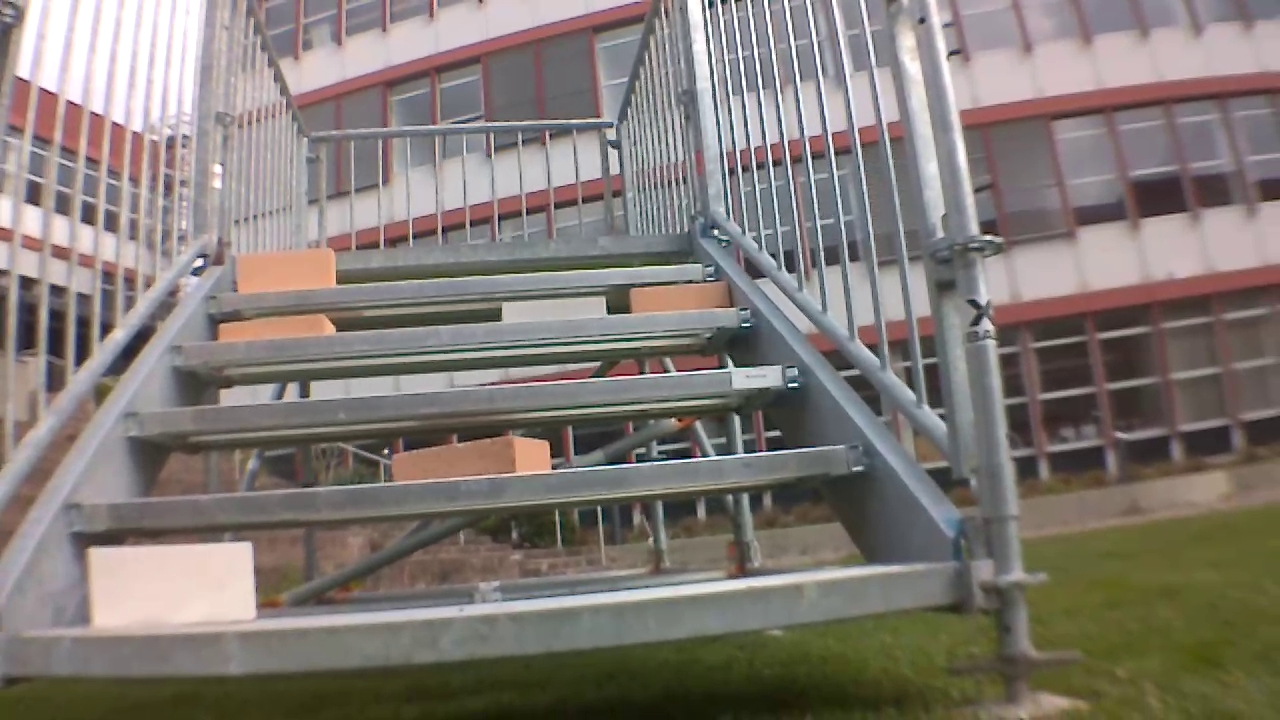brick: (86, 542, 255, 625), (393, 435, 551, 480), (236, 249, 336, 292), (218, 314, 336, 340), (632, 282, 730, 313), (502, 296, 606, 321)
edge: (1, 565, 956, 675), (64, 445, 862, 529), (124, 365, 805, 432), (171, 306, 753, 363), (207, 264, 716, 309), (223, 233, 690, 265)
stairs: (5, 4, 1064, 714)
steps: (5, 229, 962, 686)
